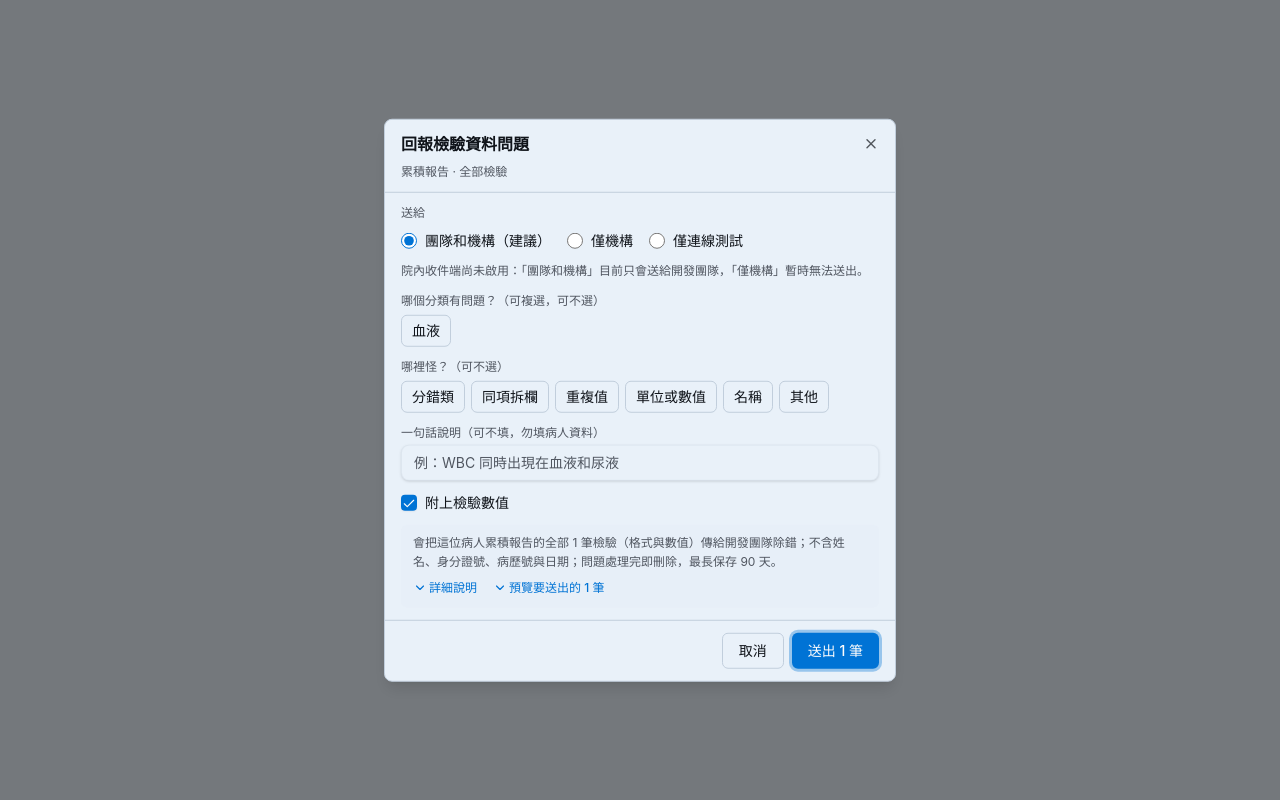
Test: LabDataReportDialog — 送給 on ?site=vghtpe › 僅連線測試 › sends no report, tests each destination, and skips one not set up
The width and height of the screenshot is (1280, 800).
Click the radio button labelled "僅連線測試". click: click(657, 241)
box: [649,233,665,249]
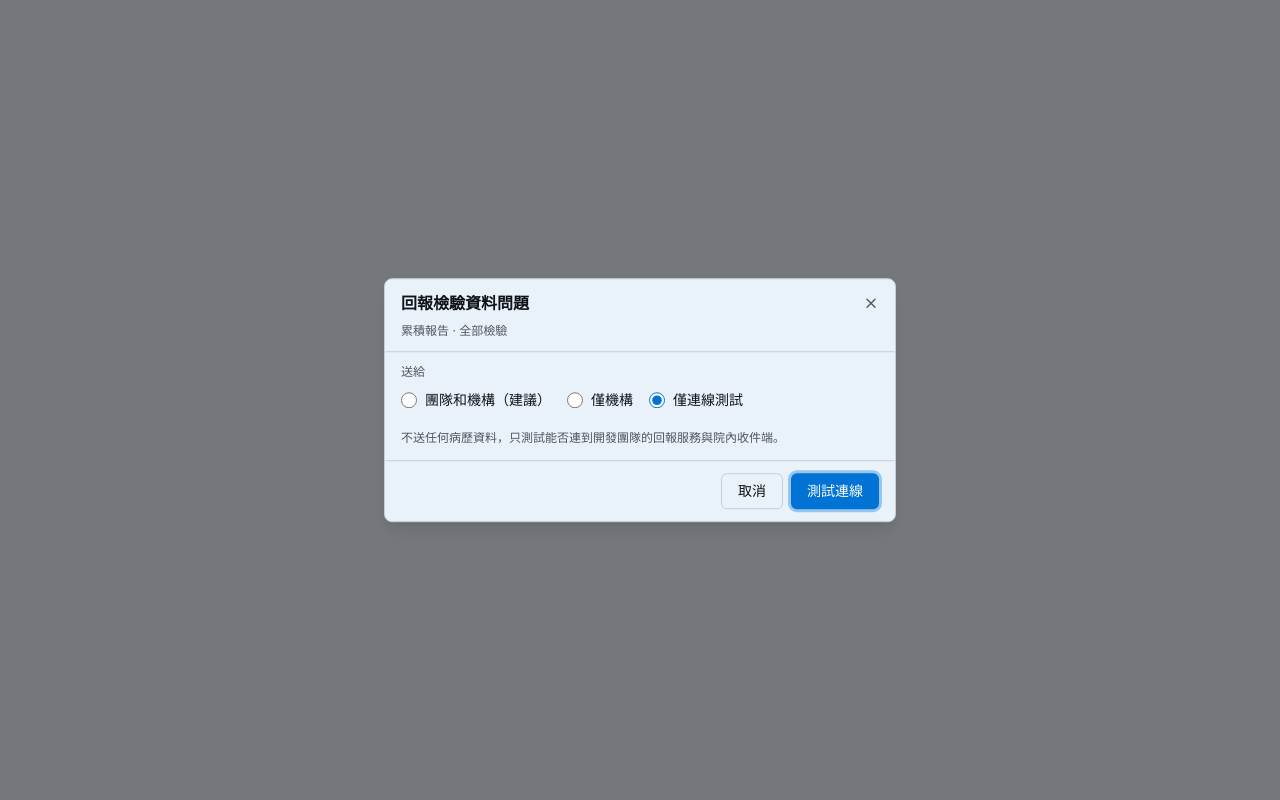
Result: the label labelled "一句話說明（可不填，勿填病人資料）" is gone
Result: the text "送出" is gone
Result: the text "不送任何病歷資料，只測試能否連到開發團隊的回報服務與院內收件端。" is shown at [401,430,785,445]
Click the button "測試連線". click: click(835, 491)
box: [791,473,879,509]
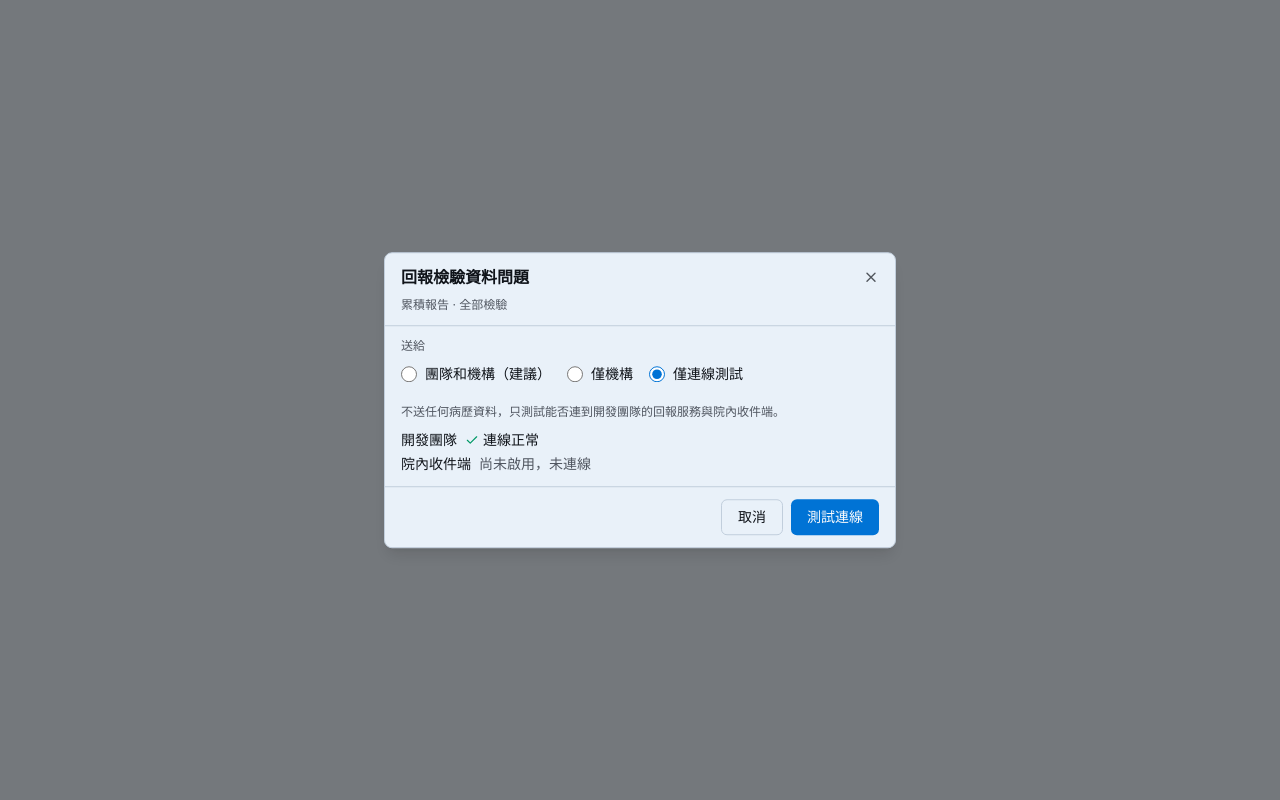
Result: the list item "開發團隊" shows "連線正常" at [483,431,539,448]
Result: the list item "院內收件端" shows "尚未啟用，未連線" at [479,455,591,472]
